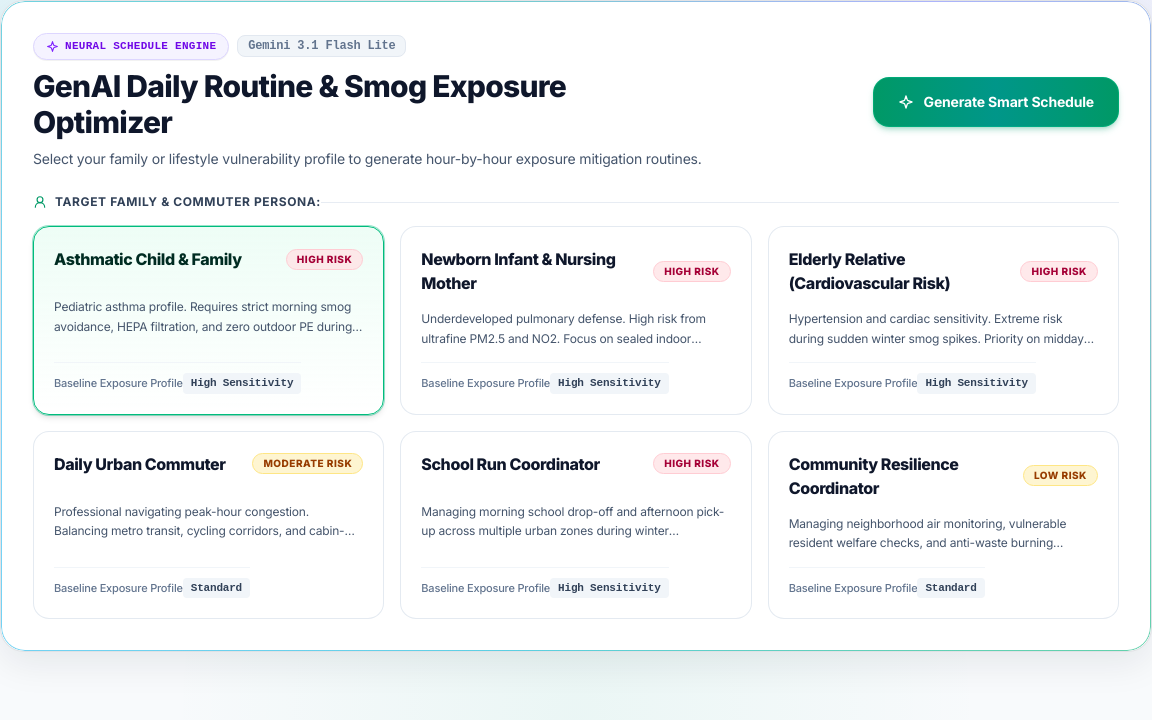
Test: Persona Profile Selection in Routine Optimizer › switches active persona when user clicks a profile card
This screenshot has width=1152, height=720.
Click the button "Elderly Relative" at (943, 321), box [768,226,1119,415]
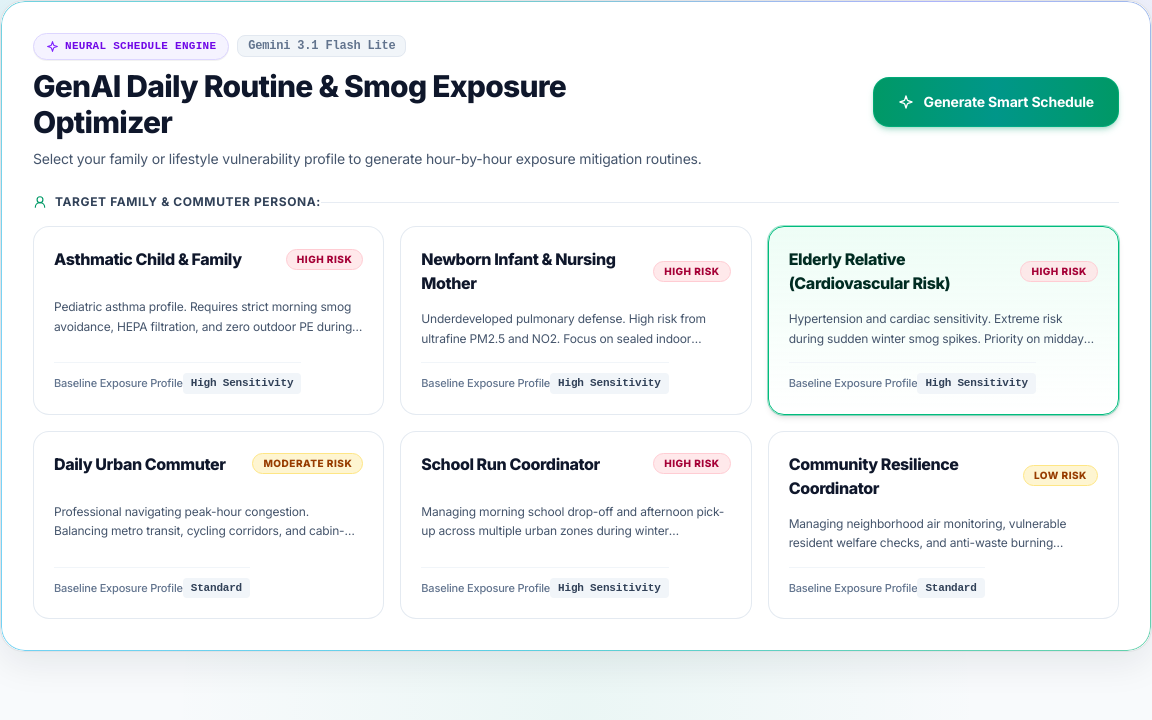
Expected: the button "Elderly Relative" is pressed, [768,226,1119,415]
